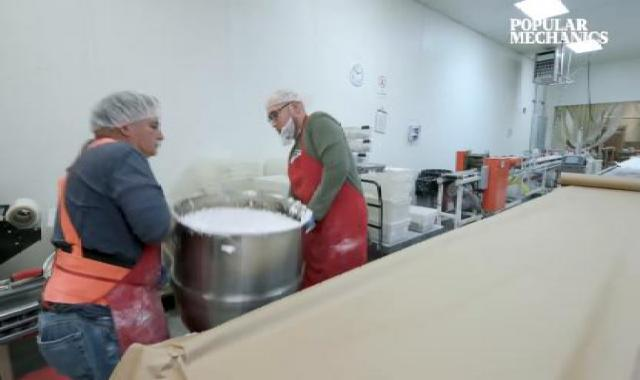hairnet: (80, 84, 172, 132), (252, 83, 326, 119)
